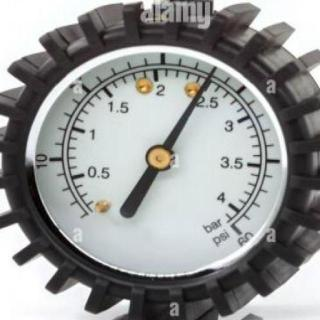gauge: (11, 37, 308, 293), (69, 192, 113, 236), (218, 203, 249, 245), (145, 144, 175, 172), (207, 62, 221, 76)
